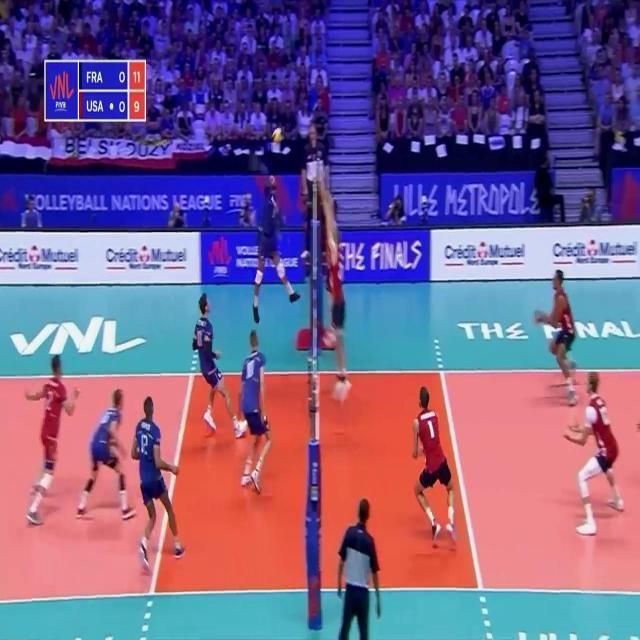volleyball: (273, 128, 285, 142)
